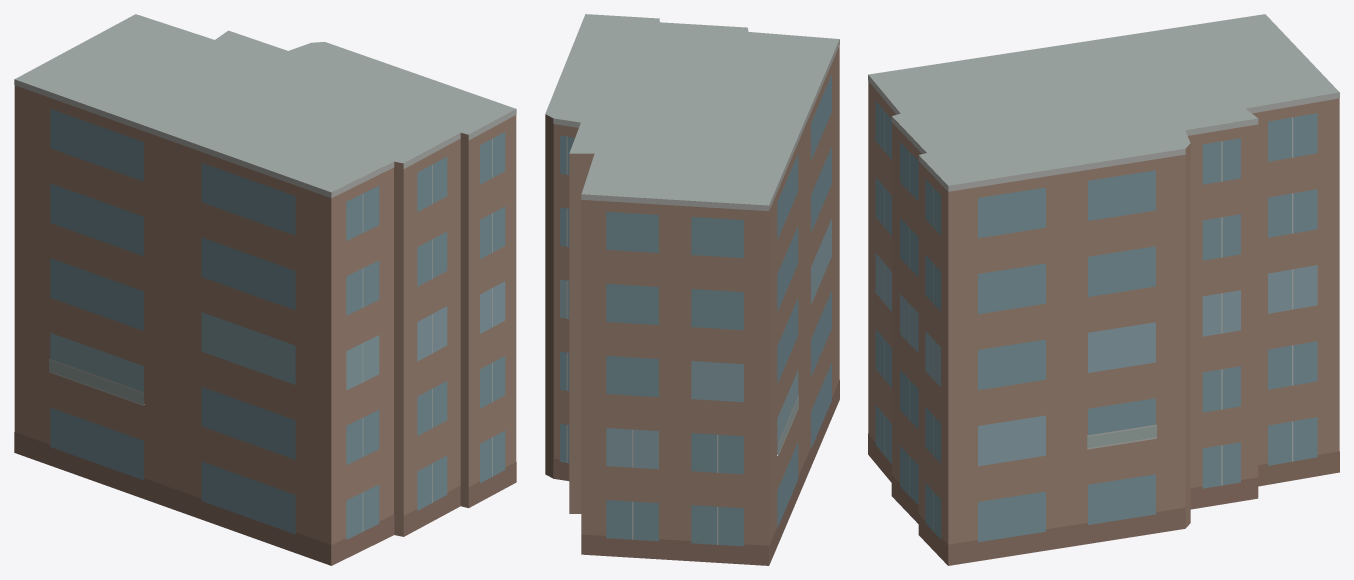
File: survey-upis-33015949.glb
3 views of the same model, side by side, from view 1: azimuth 30°, elevation 25°; view 2: azimuth 150°, elevation 25°; view 3: azimuth 270°, elevation 25° (orthographic). The views are drawn at different scales.
Visible parts, largest first — view 1: survey-upis-33015949.tmp; view 2: survey-upis-33015949.tmp; view 3: survey-upis-33015949.tmp.
Boxes of the visible parts, left/top/right/bottom form: survey-upis-33015949.tmp: left=14, top=14, right=516, bottom=565; survey-upis-33015949.tmp: left=545, top=14, right=839, bottom=565; survey-upis-33015949.tmp: left=868, top=14, right=1339, bottom=565.
Size of the model in its own units: 15.19 by 15.65 by 17.61.
